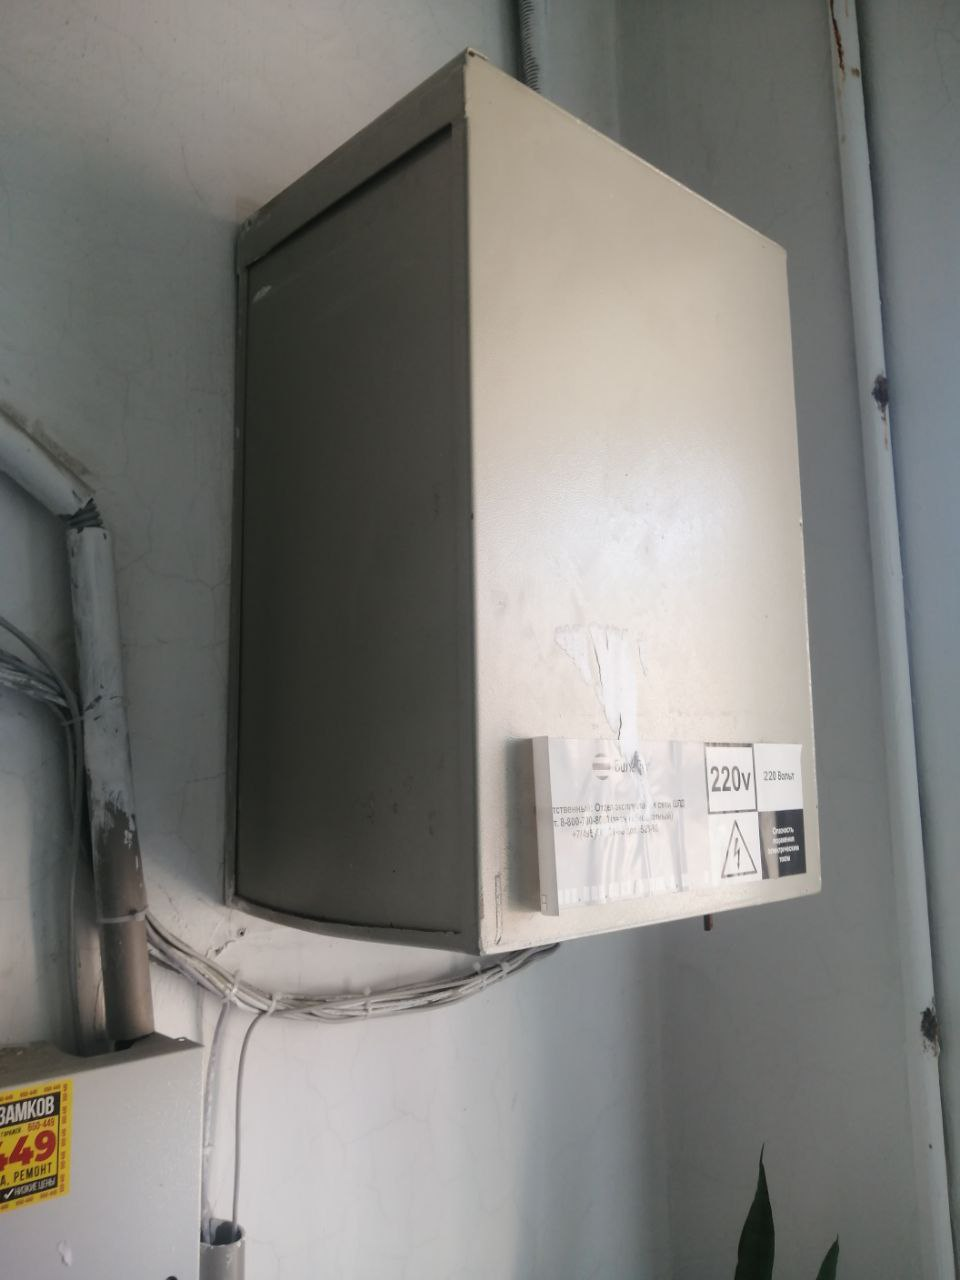sv-5: (209, 39, 835, 967)
